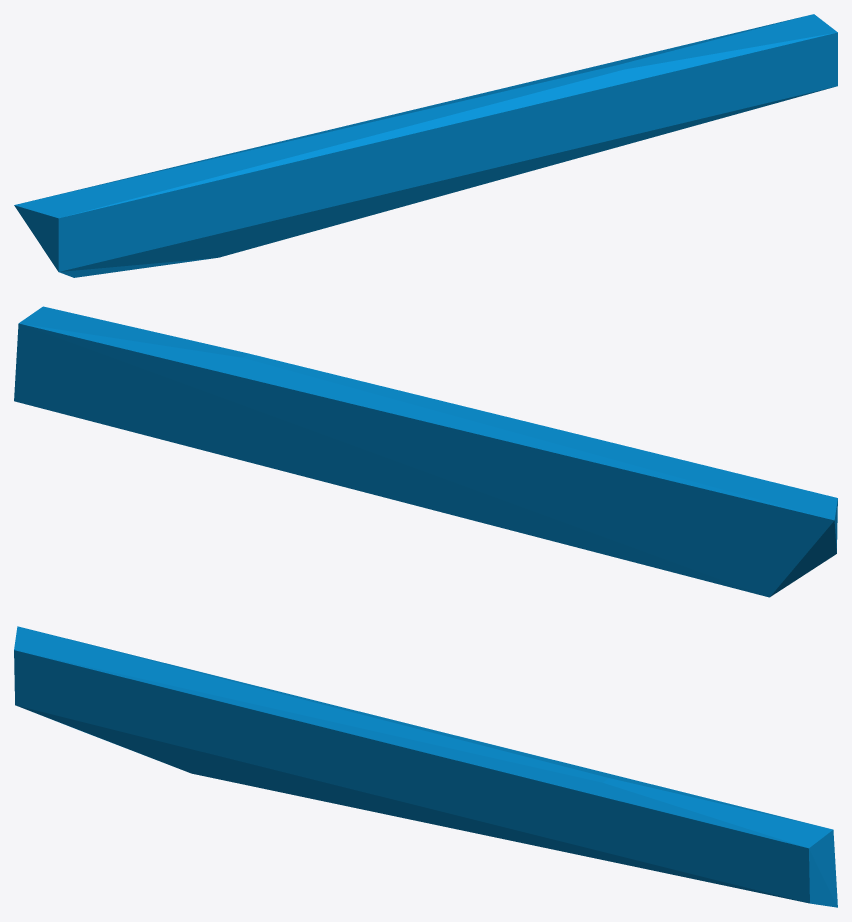
File: organic_bin_convex_piece_006.obj
3 renders of one model, top to bottom at view 1: azimuth 30°, elevation 25°; view 2: azimuth 150°, elevation 25°; view 3: azimuth 330°, elevation 25°, orthographic. The views are drawn at different scales.
Bounding box in the file's own units: 0.2538 × 0.0286 × 0.0147.
